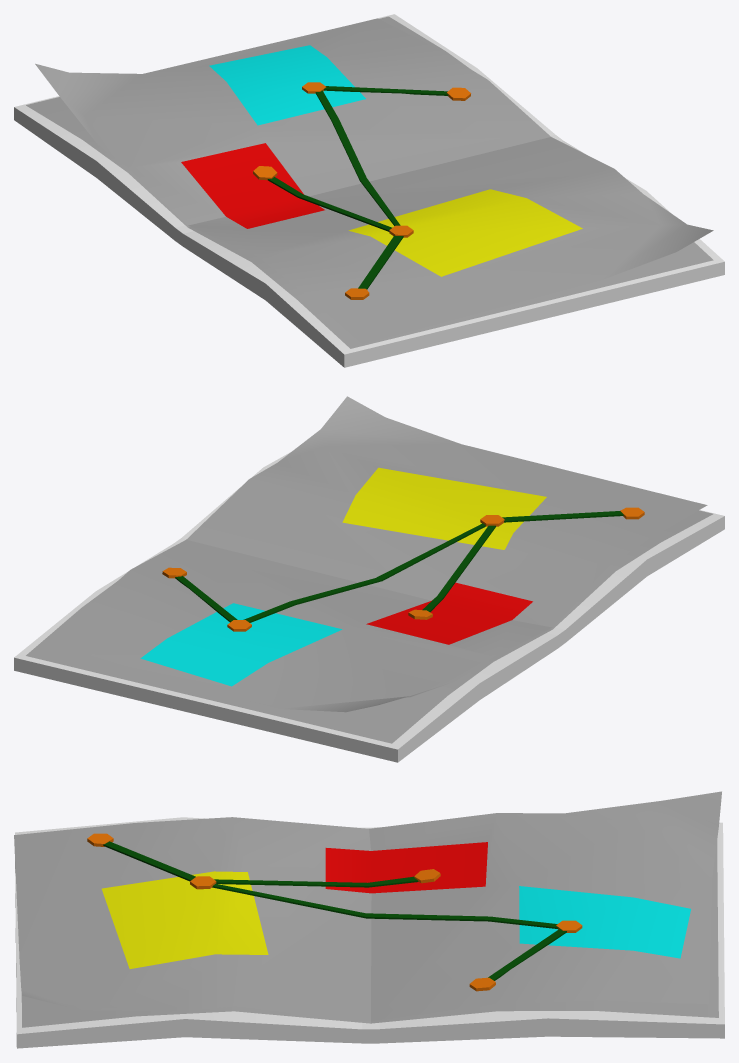
The model's file is BedRoom_Spy_sNotebook.fbx.
The picture shows the model from 3 angles, top to bottom: view 1: azimuth 30°, elevation 25°; view 2: azimuth 150°, elevation 25°; view 3: azimuth 270°, elevation 25°; orthographic projection. The views are drawn at different scales.
Visible parts, largest first — view 1: BedRoom_Spy_sNotebook; view 2: BedRoom_Spy_sNotebook; view 3: BedRoom_Spy_sNotebook.
Part boxes in pixels (x1,y1,x2,y2): BedRoom_Spy_sNotebook: [14, 14, 724, 367]; BedRoom_Spy_sNotebook: [14, 396, 724, 762]; BedRoom_Spy_sNotebook: [14, 791, 724, 1048].
Size of the model in its own units: 33.59 by 5.09 by 49.93.
